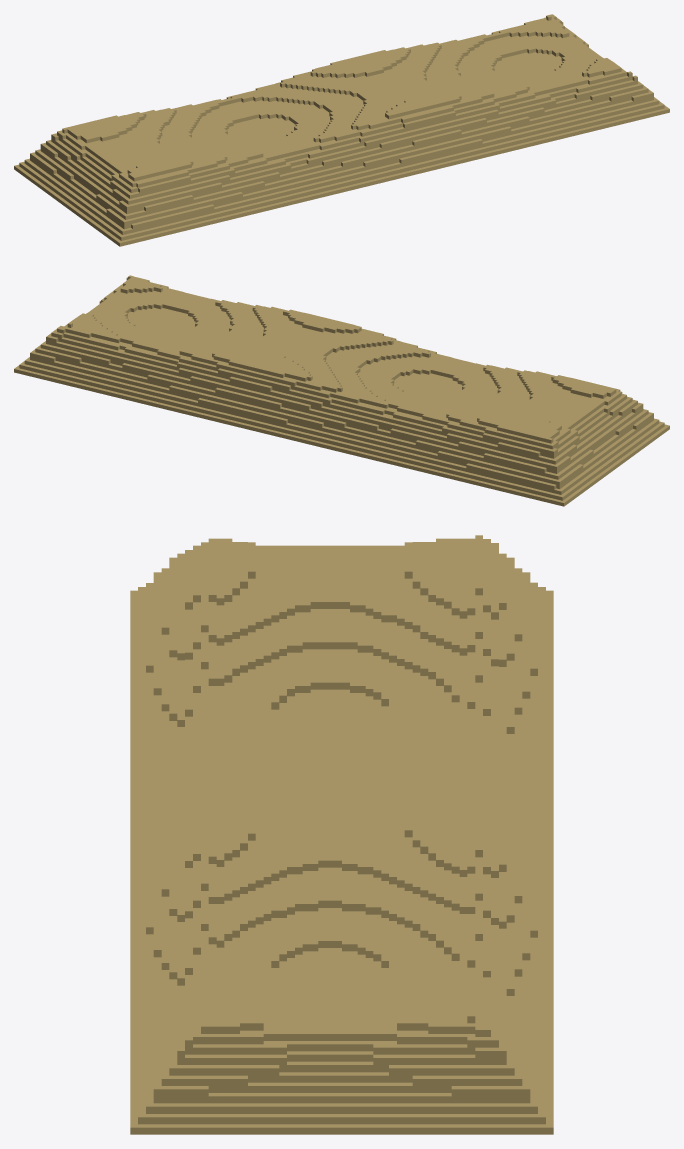
File: mesa.obj
3 views of the same model, one above another, from view 1: azimuth 30°, elevation 25°; view 2: azimuth 150°, elevation 25°; view 3: azimuth 270°, elevation 25° (orthographic). The views are drawn at different scales.
Bounding box in the file's own units: 16.2 × 1.3 × 5.4.
Materials: 1 (1 with a texture image).
